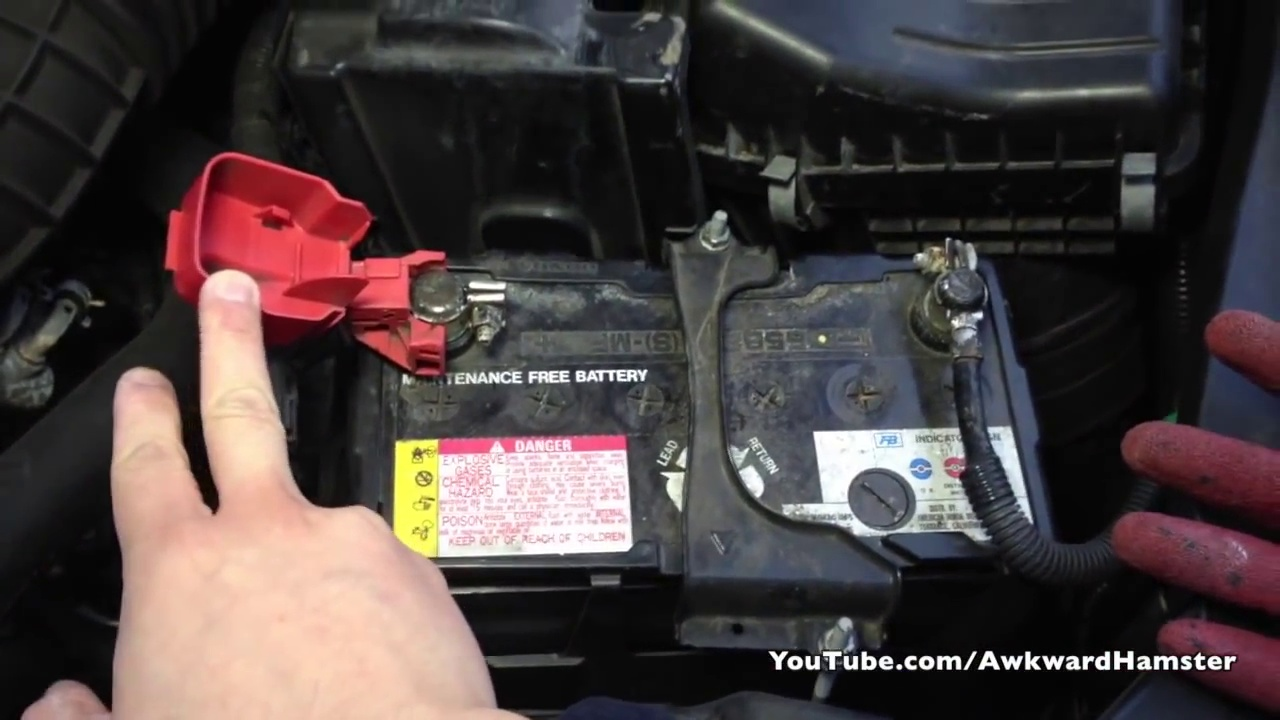battery: (278, 228, 1051, 590)
neg_connected: (892, 228, 1020, 399)
pos_connected: (205, 174, 533, 382)
pos_touched: (127, 144, 517, 396)
